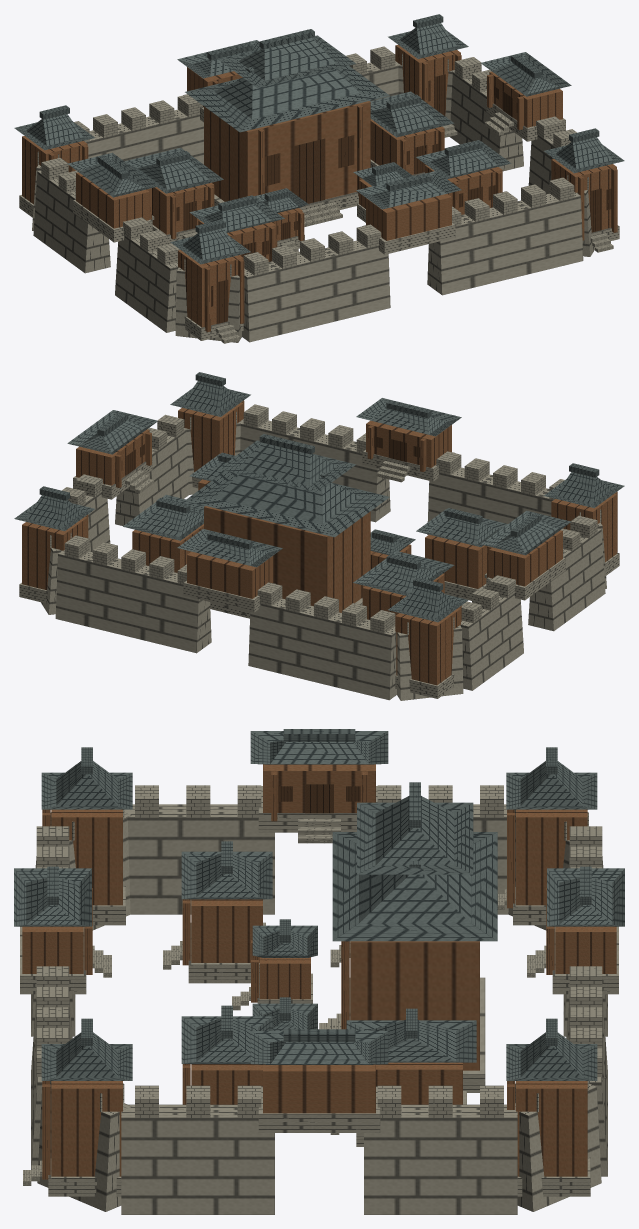
The model's file is city0-lod0.glb.
3 views of the same model, one above another, from view 1: azimuth 30°, elevation 25°; view 2: azimuth 150°, elevation 25°; view 3: azimuth 270°, elevation 25° (orthographic). The views are drawn at different scales.
Bounding box in the file's own units: 2.31 × 0.821 × 1.79.
Materials: 1 (1 with a texture image).
